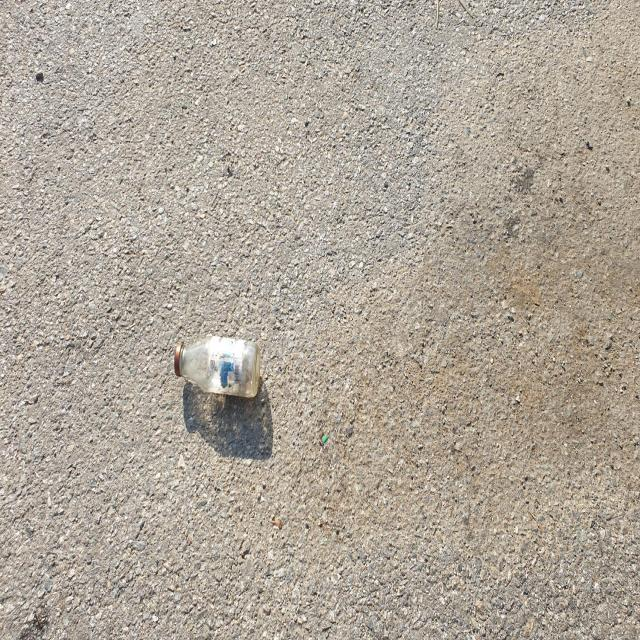glass: (174, 336, 260, 397)
